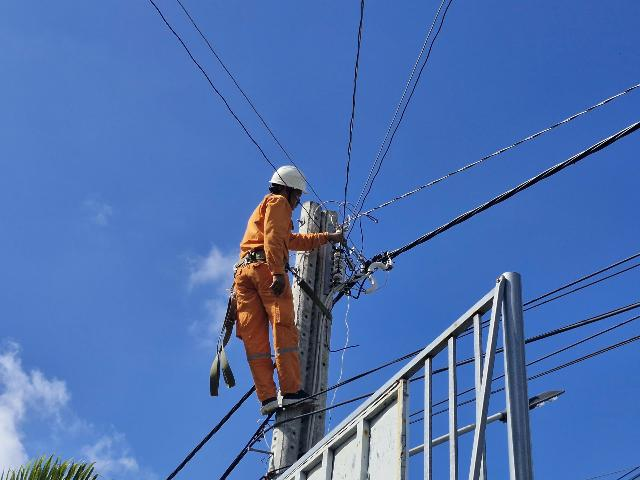gloves: (266, 271, 298, 298), (321, 222, 345, 246)
harness: (230, 246, 298, 278)
helmet: (274, 162, 314, 196)
shoes: (280, 383, 318, 411), (254, 394, 282, 418)
